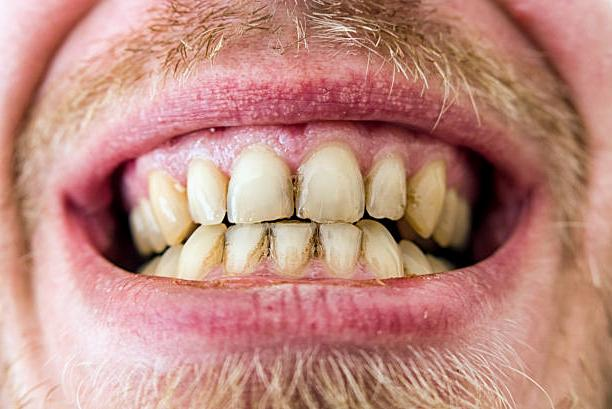Calculus: (223, 144, 297, 224), (294, 146, 364, 219), (218, 205, 275, 273), (360, 146, 411, 214), (401, 164, 448, 227), (313, 213, 364, 265), (180, 215, 228, 270), (266, 218, 317, 268)
